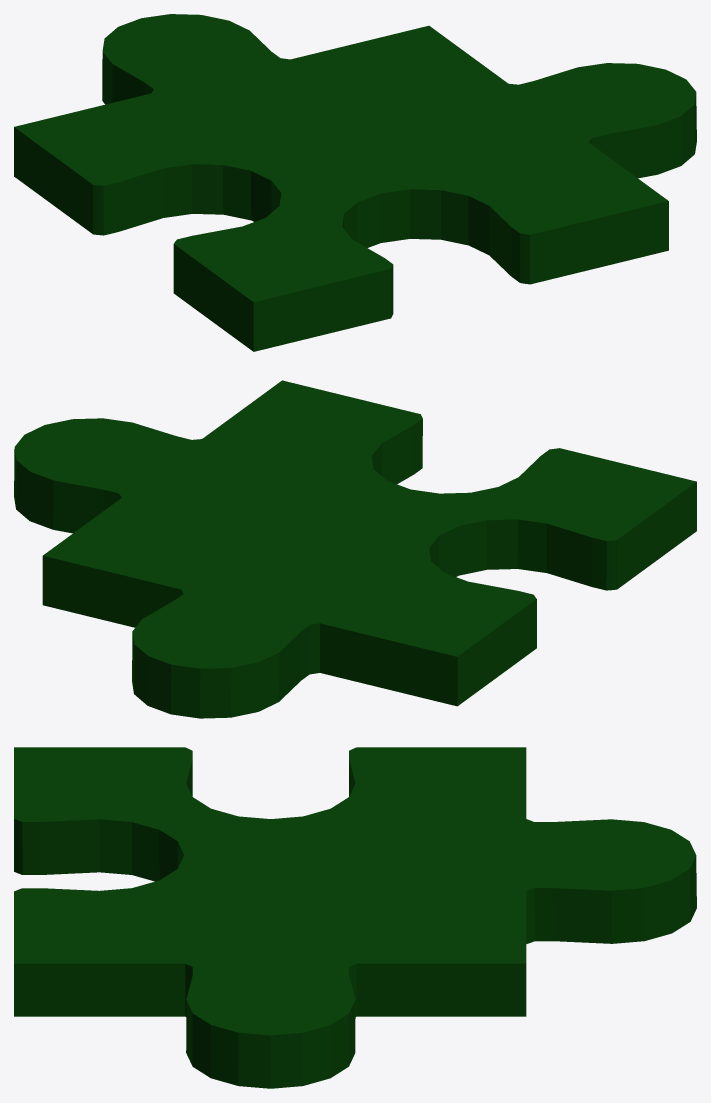
The model's file is puzzle_piece_02.fbx.
3 views of the same model, one above another, from view 1: azimuth 30°, elevation 25°; view 2: azimuth 150°, elevation 25°; view 3: azimuth 270°, elevation 25° (orthographic). The views are drawn at different scales.
Parts seen in each view (by area): view 1: Puzzle Piece 2; view 2: Puzzle Piece 2; view 3: Puzzle Piece 2.
Boxes of the visible parts, x1,y1,x2,y2 form: Puzzle Piece 2: [14, 14, 696, 351]; Puzzle Piece 2: [14, 380, 696, 718]; Puzzle Piece 2: [14, 747, 696, 1088].
Size of the model in its own units: 200 by 17.12 by 200.
